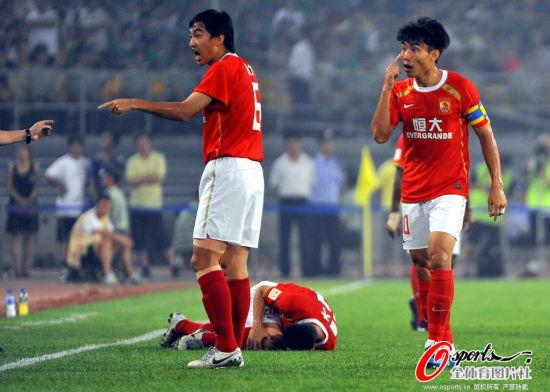down: (148, 267, 344, 356)
up: (102, 4, 263, 381), (367, 15, 506, 367)
